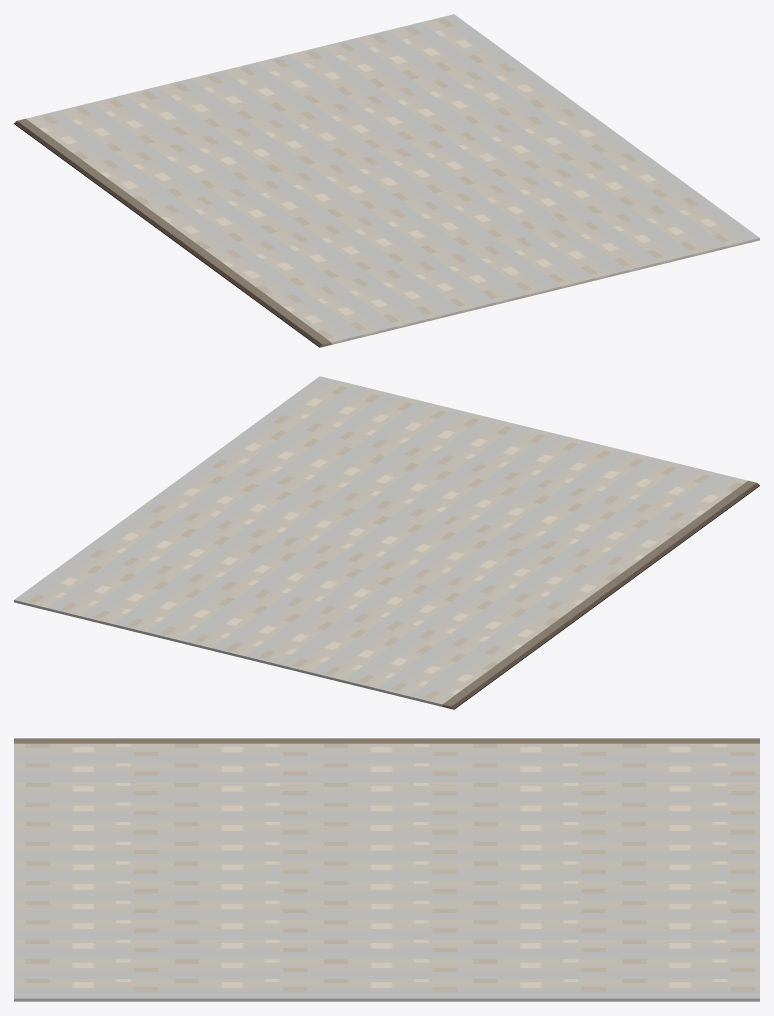
Rendered from CityRoad.fbx.
The picture shows the model from 3 angles, top to bottom: view 1: azimuth 30°, elevation 25°; view 2: azimuth 150°, elevation 25°; view 3: azimuth 270°, elevation 25°; orthographic projection. The views are drawn at different scales.
Parts seen in each view (by area): view 1: Cube.101; view 2: Cube.101; view 3: Cube.101.
Boxes of the visible parts, x1,y1,x2,y2 form: Cube.101: [14, 14, 759, 347]; Cube.101: [14, 376, 759, 709]; Cube.101: [14, 738, 759, 1001].
Size of the model in its own units: 37.4 by 0.2 by 45.
2 materials, 2 textured.
